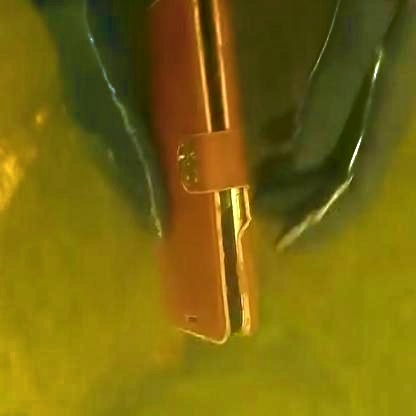electronics: (132, 23, 306, 371)
